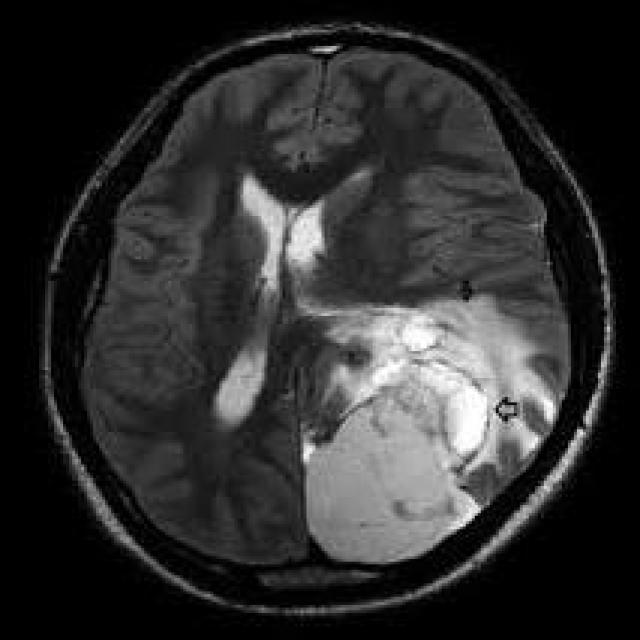Tumor-Cell: (297, 272, 530, 568)
